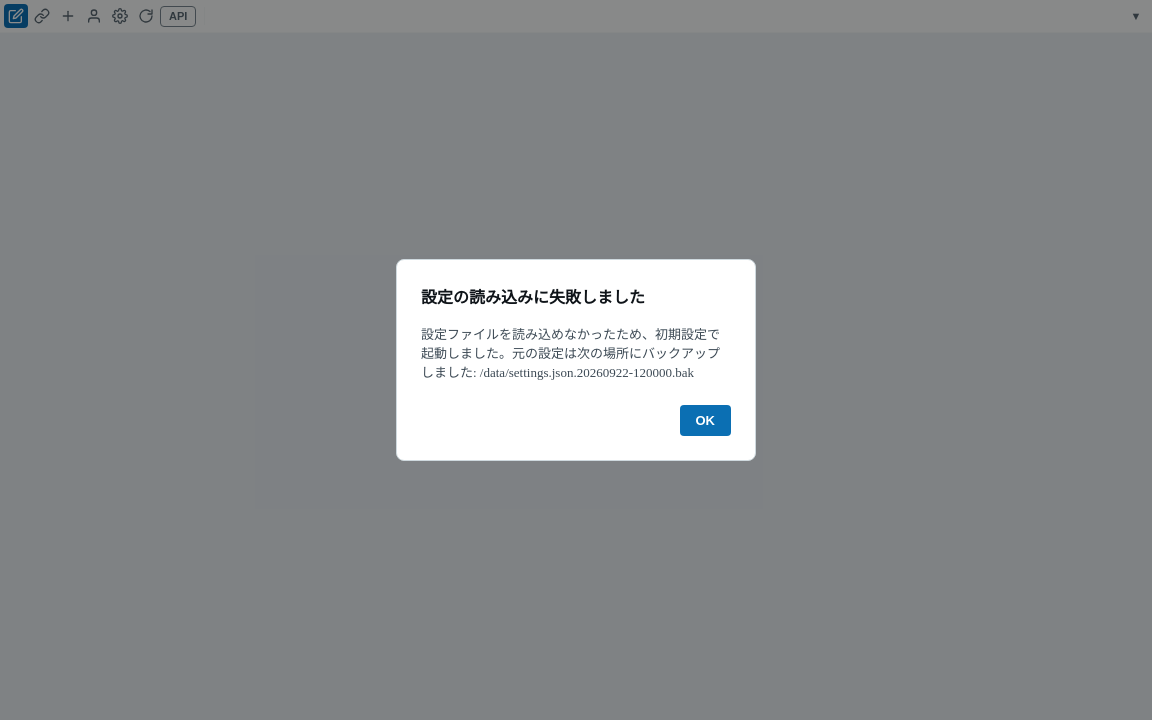
Test: App (desktop) › 設定読み込み失敗の通知があるとダイアログが表示され、OKを押すと消える
Expected: the heading "設定の読み込みに失敗しました" is shown, [421,289,645,306]
Expected: the text "バックアップしました" is shown, [421,327,720,380]
Click the button "OK" at (705, 420), box [680,405,731,436]
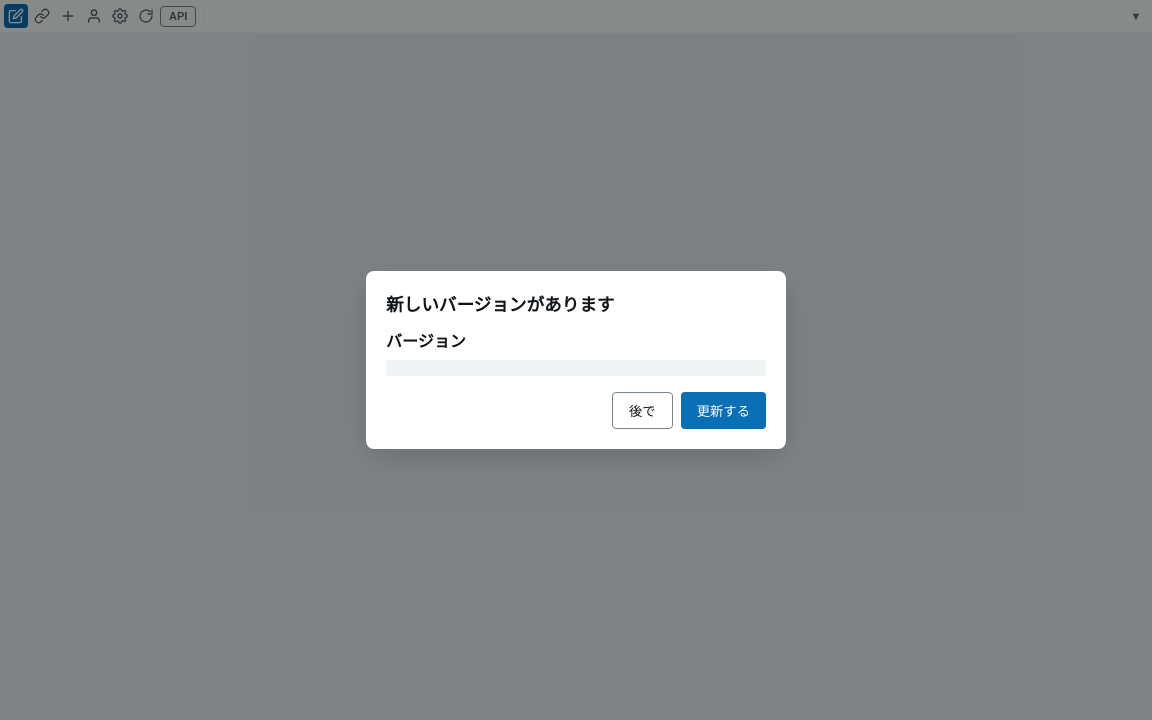
Expected: the heading "設定の読み込みに失敗しました" is gone
